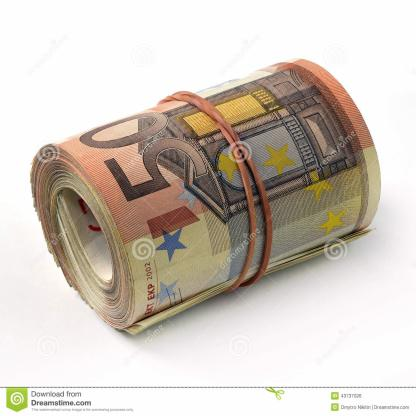billete: (30, 55, 384, 338)
